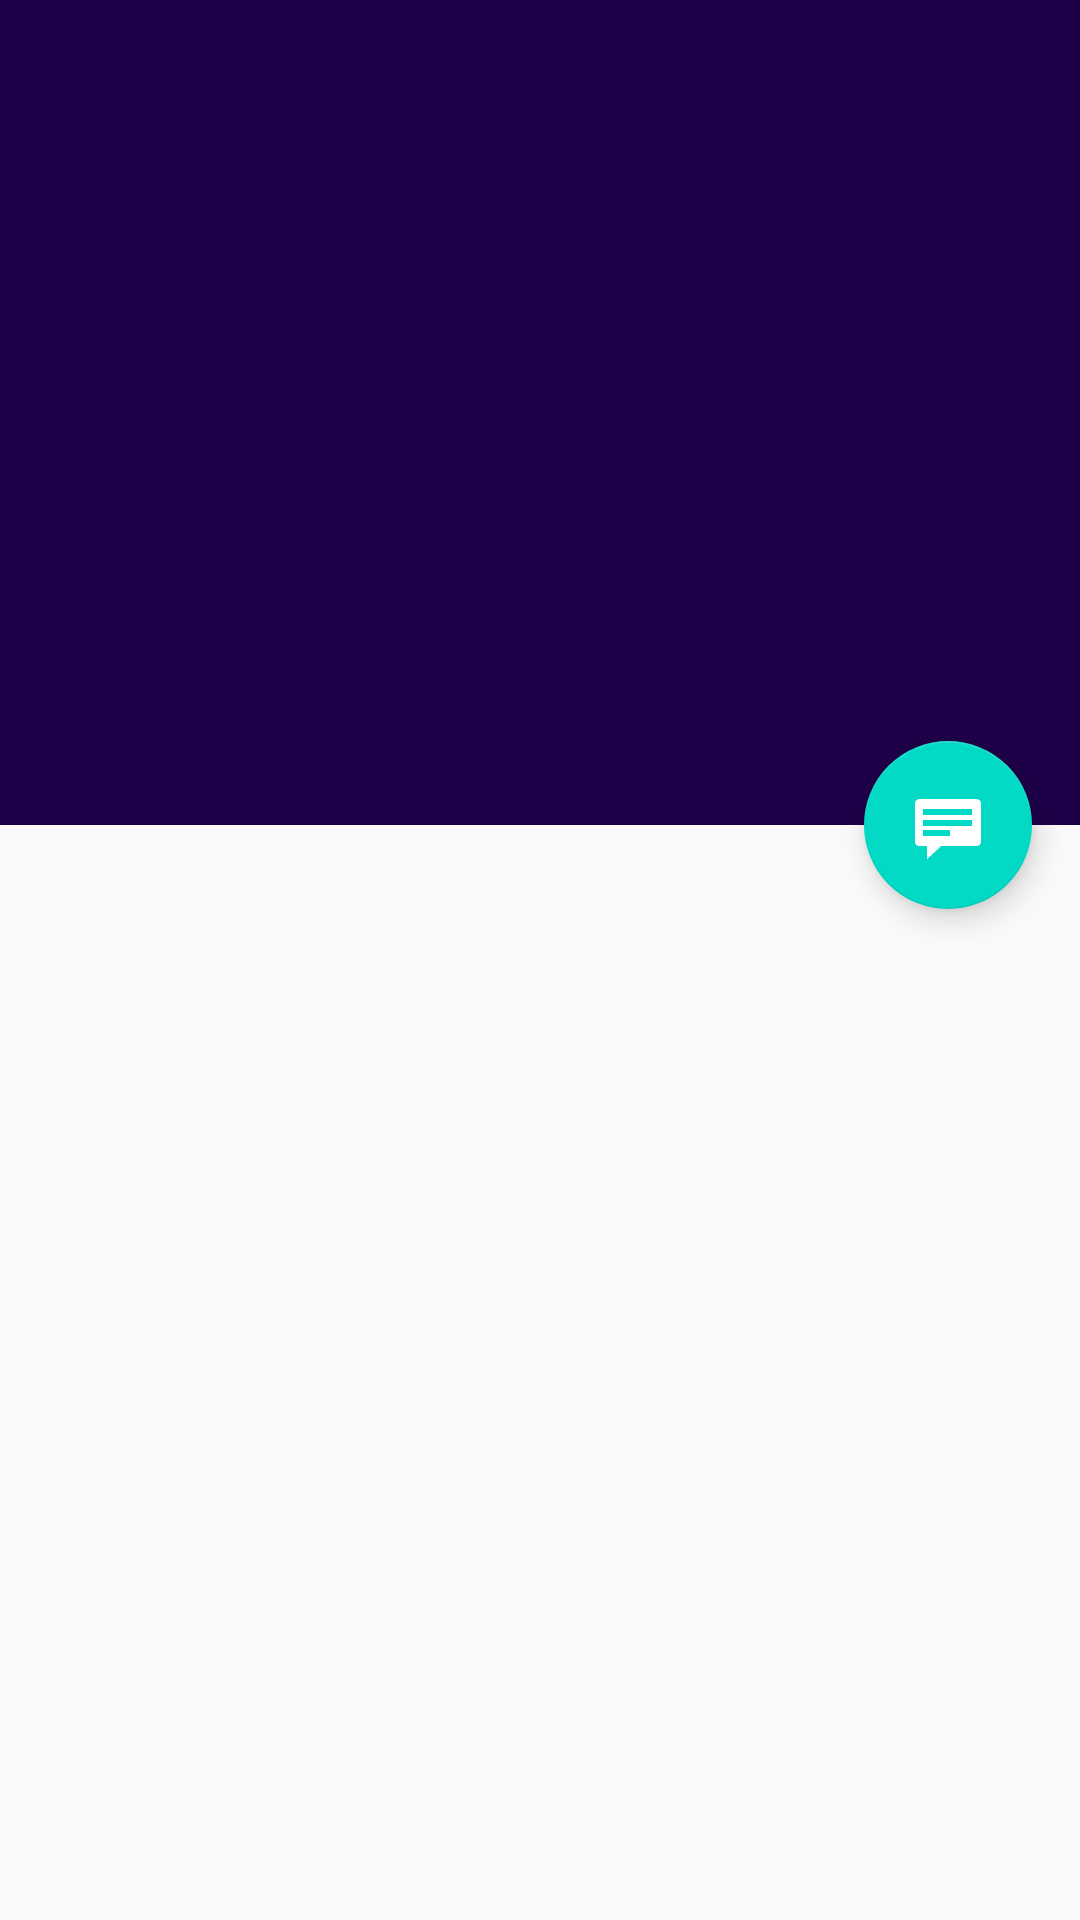

Where to tap for icons on this 1080px x 1920px app screen, as (x=x, y=y):
chat: (x=948, y=825)
